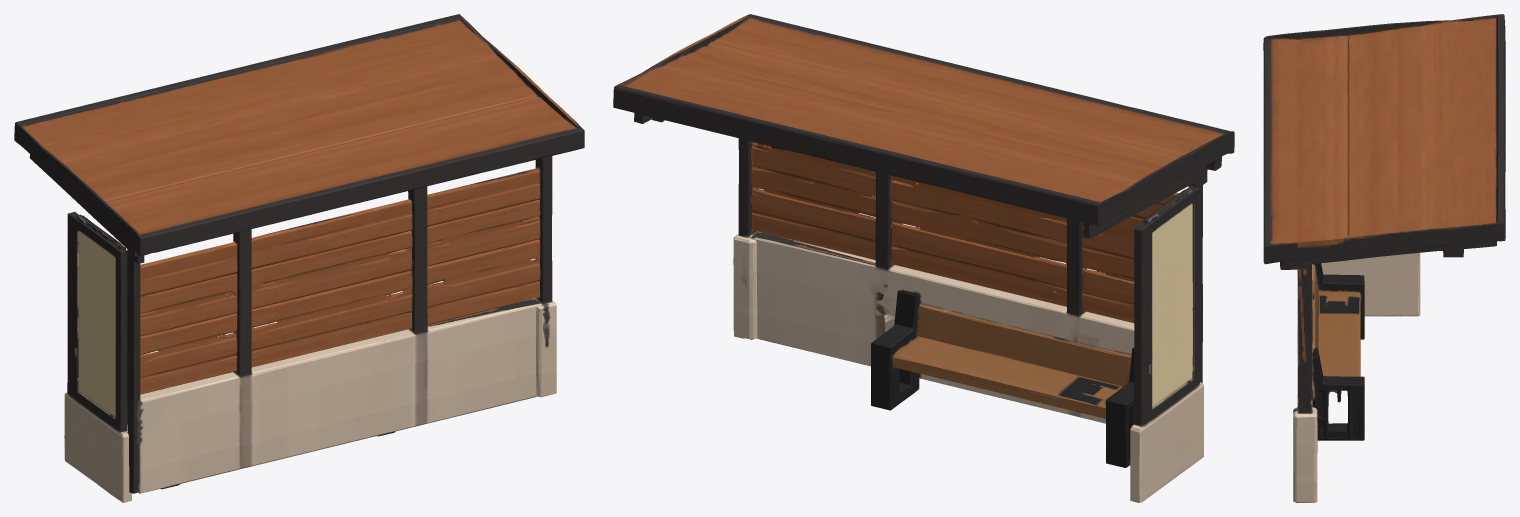
The model's file is tram_shelter.glb.
The picture shows the model from 3 angles, left to right: view 1: azimuth 30°, elevation 25°; view 2: azimuth 150°, elevation 25°; view 3: azimuth 270°, elevation 25°; orthographic projection. The views are drawn at different scales.
Visible parts, largest first — view 1: shelter; view 2: shelter; view 3: shelter.
Part boxes in pixels (<box>): shelter: <box>14,14,584,502</box>; shelter: <box>613,14,1234,502</box>; shelter: <box>1263,14,1505,502</box>.
Bounding box in the file's own units: 4.47 × 2.95 × 2.19.
Materials: 1 (1 with a texture image).
